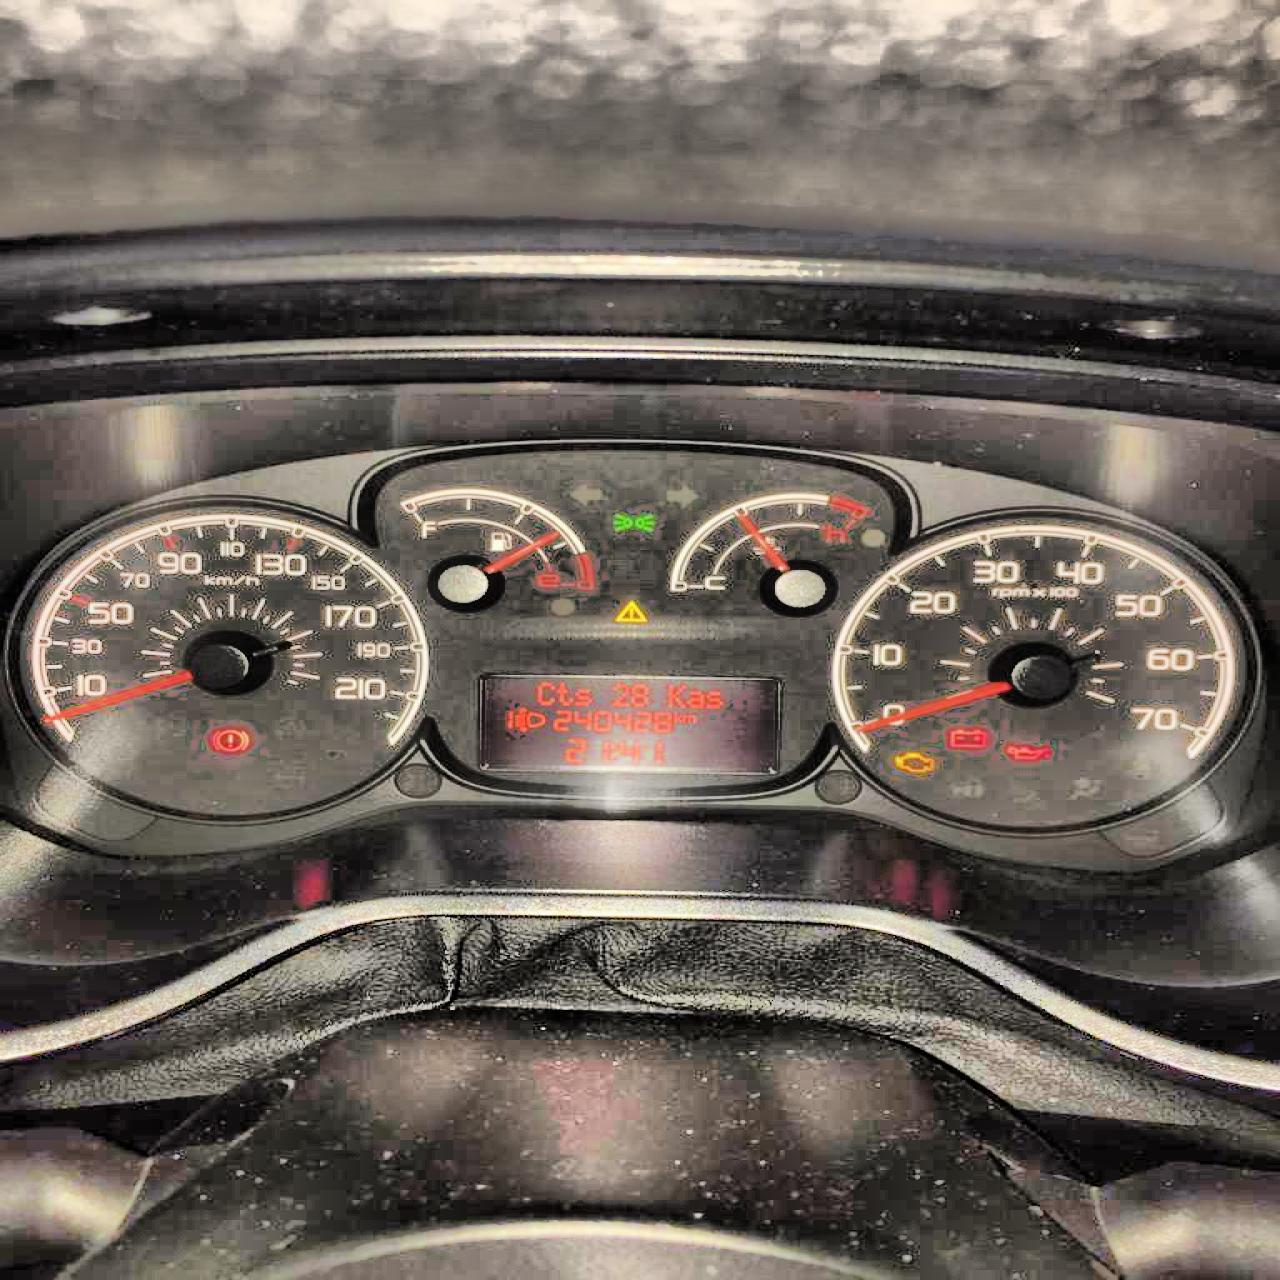0: (592, 709, 612, 731)
1: (651, 738, 665, 763), (599, 737, 608, 763), (505, 708, 513, 730)
2: (561, 736, 586, 764), (610, 681, 628, 707), (632, 710, 652, 731), (552, 709, 570, 731)
4: (619, 738, 639, 763), (572, 709, 592, 730), (613, 710, 629, 731)
8: (629, 681, 648, 707), (652, 708, 670, 733)
X: (665, 681, 685, 708), (533, 680, 553, 706), (554, 680, 573, 704), (703, 688, 723, 708), (573, 686, 593, 704), (687, 688, 703, 708), (682, 713, 695, 722), (672, 710, 681, 722), (611, 741, 617, 760)
odometer: (474, 666, 782, 776)
